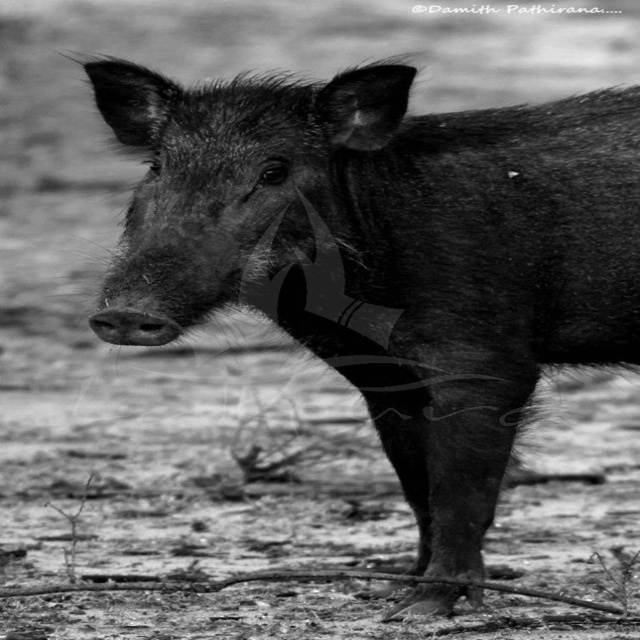Pig: (53, 47, 639, 620)
